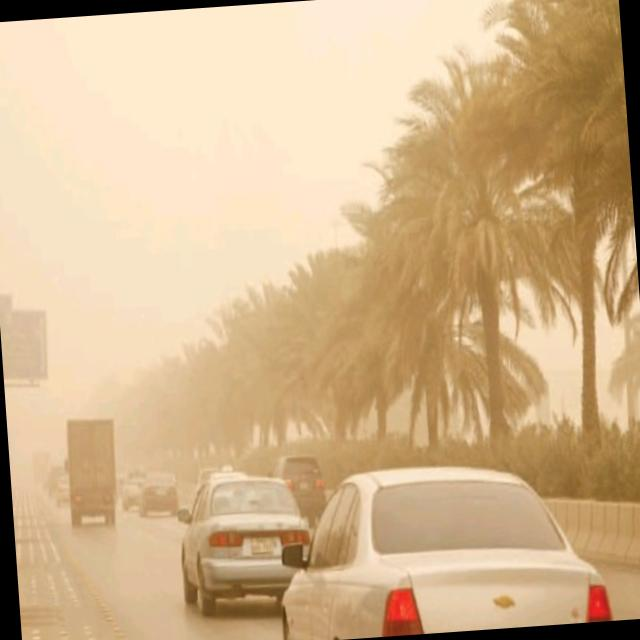car: (263, 455, 612, 640), (173, 465, 317, 623), (269, 452, 331, 533), (138, 470, 180, 519), (123, 473, 148, 509), (56, 475, 71, 507)
